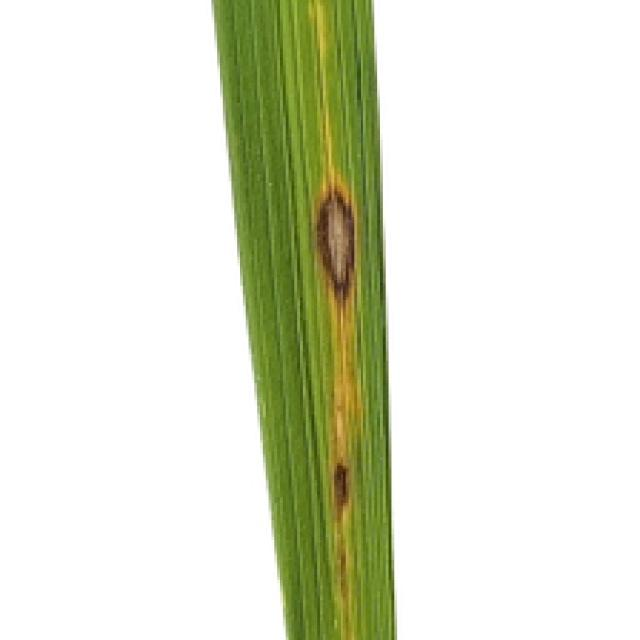Rice___Rice_Blast: (208, 0, 402, 637)
